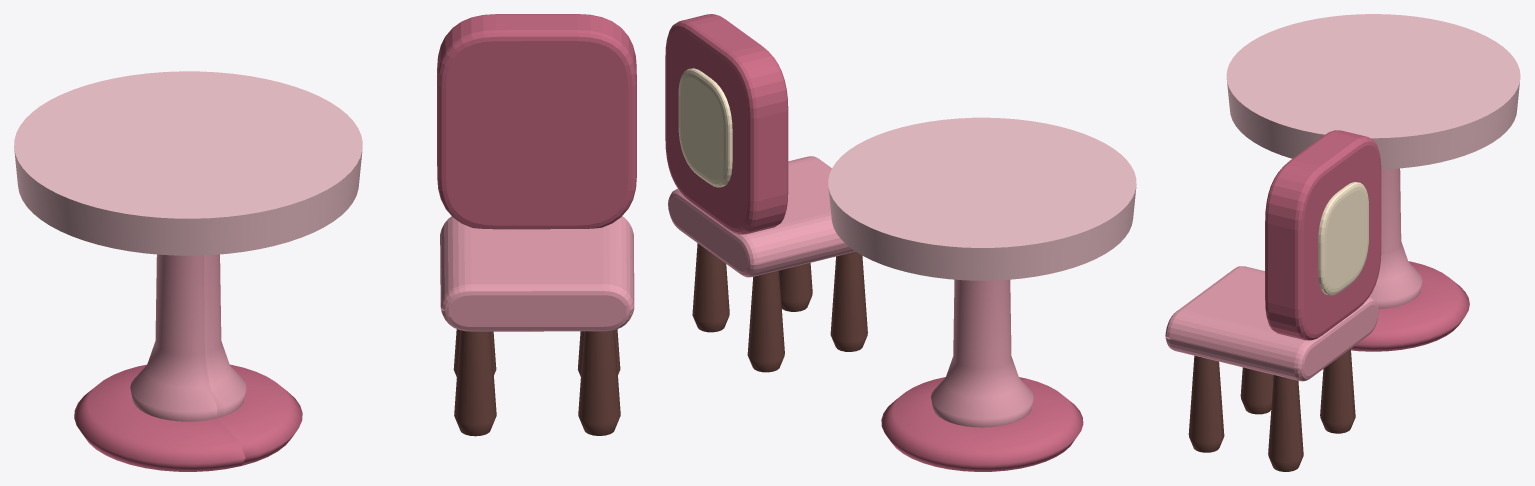
Rendered from cafe-set.glb.
3 renders of one model, left to right at view 1: azimuth 30°, elevation 25°; view 2: azimuth 150°, elevation 25°; view 3: azimuth 270°, elevation 25°, orthographic. The views are drawn at different scales.
Visible parts, largest first — view 1: TableTop, ChairBack, ChairSeat, TableBase, TableColumn, ChairLeg2, ChairLeg1; view 2: TableTop, ChairBack, TableBase, TableColumn, ChairSeat, ChairBackInset, ChairLeg4, ChairLeg2, ChairLeg3, ChairLeg1; view 3: TableTop, ChairBack, ChairSeat, TableBase, ChairBackInset, TableColumn, ChairLeg1, ChairLeg3, ChairLeg4, ChairLeg2.
Boxes of the visible parts, bbox=[...] form: TableTop: bbox=[14, 71, 362, 255]; ChairBack: bbox=[437, 14, 636, 229]; ChairSeat: bbox=[440, 216, 634, 331]; TableBase: bbox=[74, 364, 302, 471]; TableColumn: bbox=[130, 254, 246, 421]; ChairLeg2: bbox=[454, 330, 496, 436]; ChairLeg1: bbox=[578, 330, 620, 435]; TableTop: bbox=[828, 117, 1136, 280]; ChairBack: bbox=[665, 14, 788, 234]; TableBase: bbox=[881, 377, 1083, 471]; TableColumn: bbox=[931, 279, 1033, 427]; ChairSeat: bbox=[668, 156, 855, 277]; ChairBackInset: bbox=[678, 68, 732, 187]; ChairLeg4: bbox=[747, 270, 784, 372]; ChairLeg2: bbox=[830, 251, 867, 351]; ChairLeg3: bbox=[692, 243, 729, 332]; ChairLeg1: bbox=[779, 263, 812, 311]; TableTop: bbox=[1226, 14, 1520, 169]; ChairBack: bbox=[1265, 130, 1381, 340]; ChairSeat: bbox=[1165, 266, 1378, 381]; TableBase: bbox=[1351, 261, 1469, 351]; ChairBackInset: bbox=[1318, 182, 1368, 295]; TableColumn: bbox=[1369, 168, 1422, 309]; ChairLeg1: bbox=[1188, 355, 1224, 452]; ChairLeg3: bbox=[1268, 375, 1303, 471]; ChairLeg4: bbox=[1320, 349, 1355, 433]; ChairLeg2: bbox=[1240, 367, 1273, 414].
Bounding box in the file's own units: 3.3 × 2.02 × 2.17.
